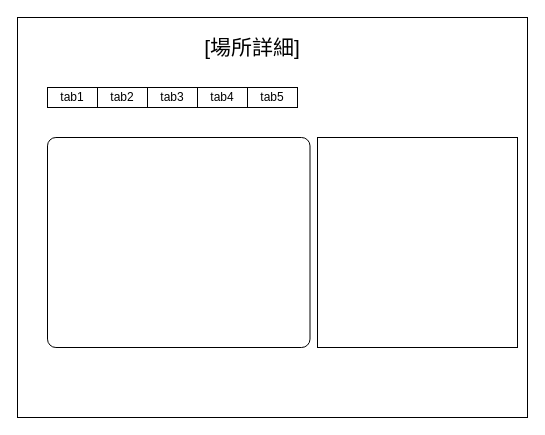
Some shapes in this 545 by 435 pixel diagram are drawn without their labels. The centre of each missing label's shape, as x and y in pixels:
image: the point at 178,242
Text: the point at 417,242
